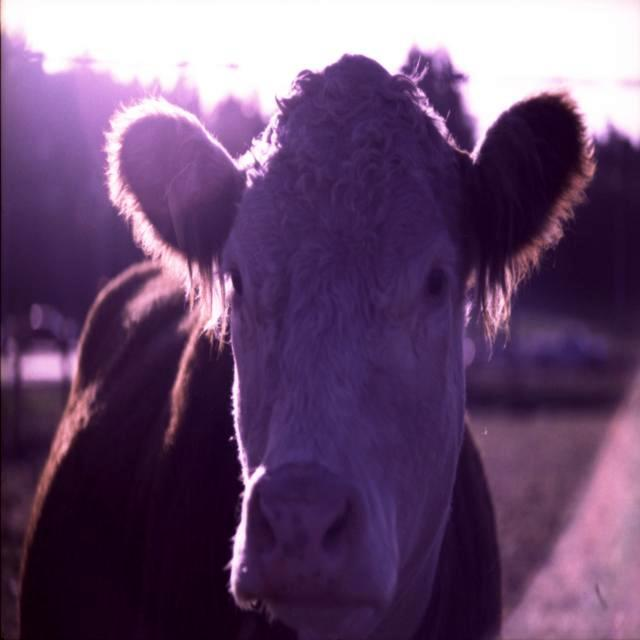COW: (20, 56, 592, 638)
